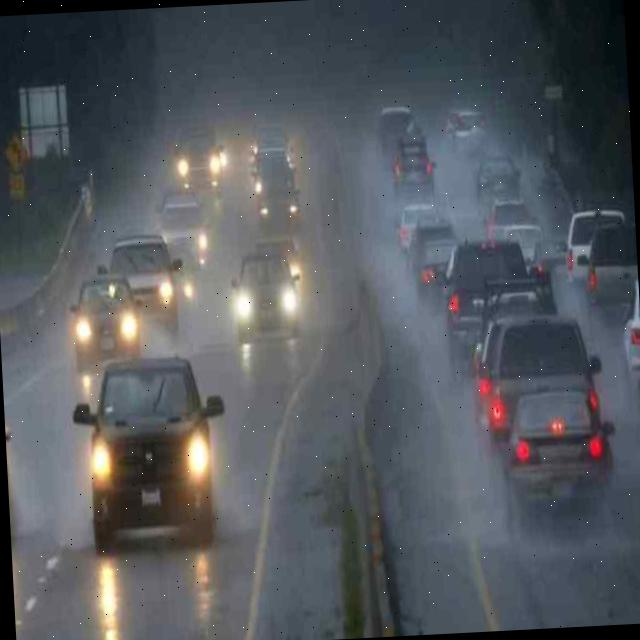car: (81, 355, 228, 553), (502, 392, 621, 522), (488, 322, 603, 439), (441, 238, 548, 358), (102, 232, 180, 344), (68, 274, 144, 374), (230, 244, 303, 344), (584, 220, 633, 319), (170, 124, 224, 194), (158, 192, 217, 254), (556, 203, 592, 294), (466, 145, 526, 199), (390, 134, 436, 195), (249, 149, 297, 206), (616, 281, 640, 387), (256, 192, 303, 238), (172, 238, 200, 314), (480, 197, 534, 235), (410, 238, 444, 298), (394, 195, 440, 232)
